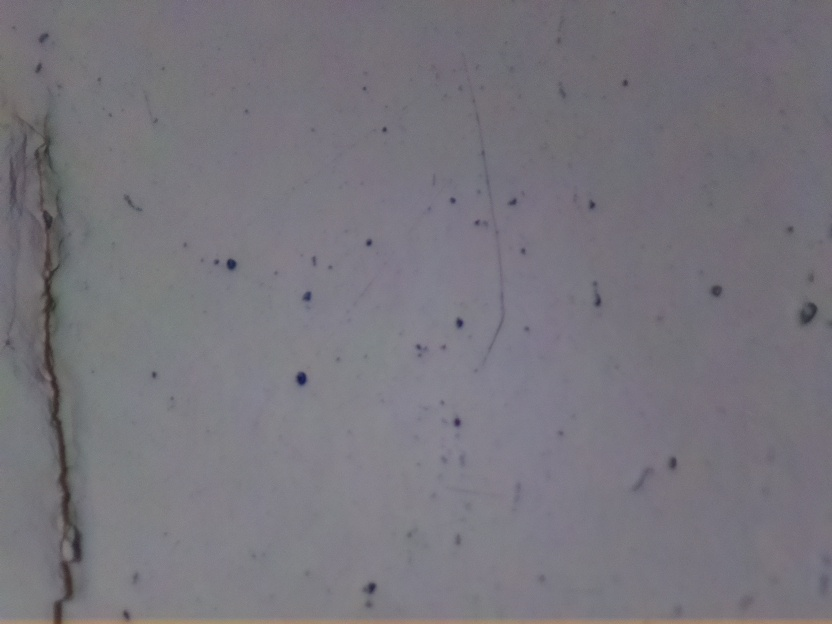crack: (23, 97, 86, 624)
